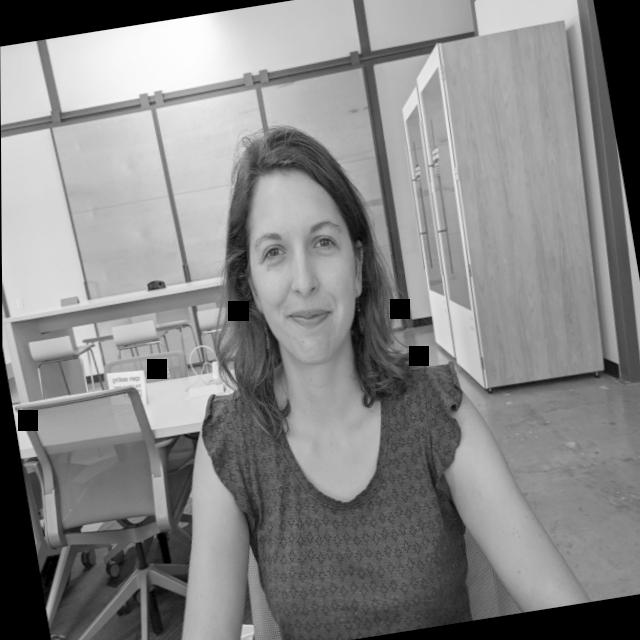NO-Mask: (225, 156, 379, 378)
